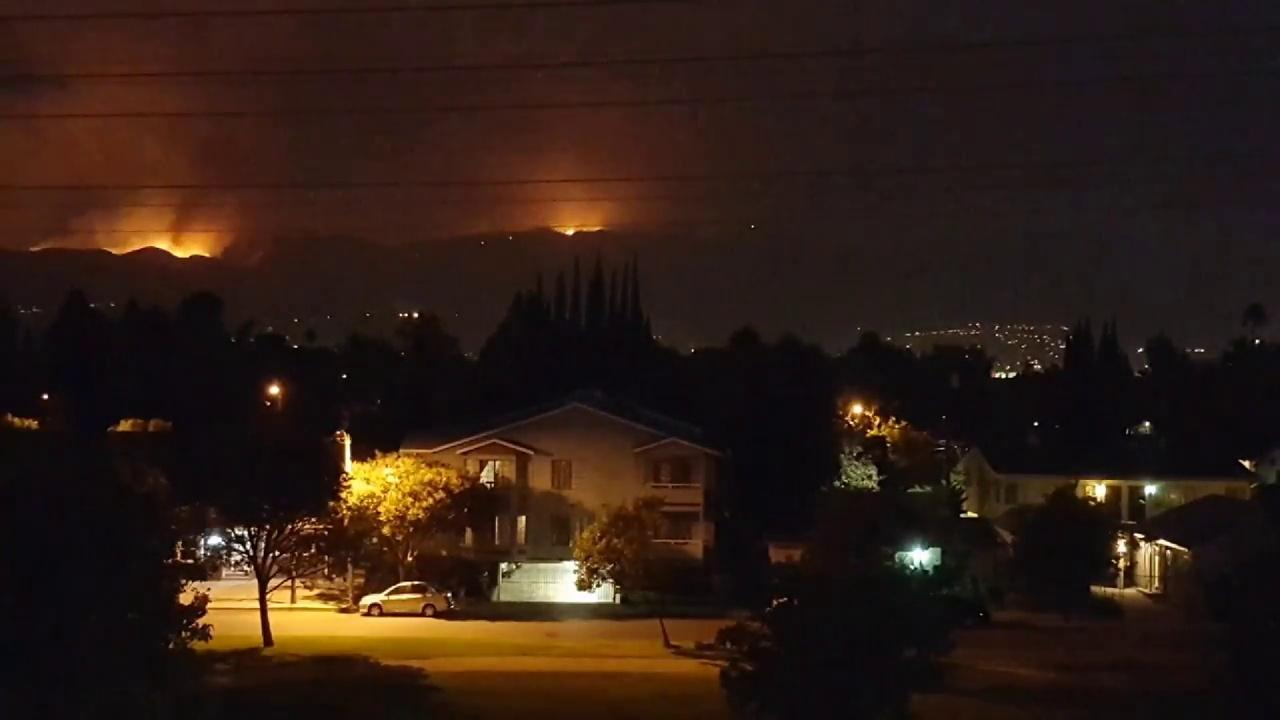fire: (544, 202, 618, 248), (102, 238, 212, 264)
